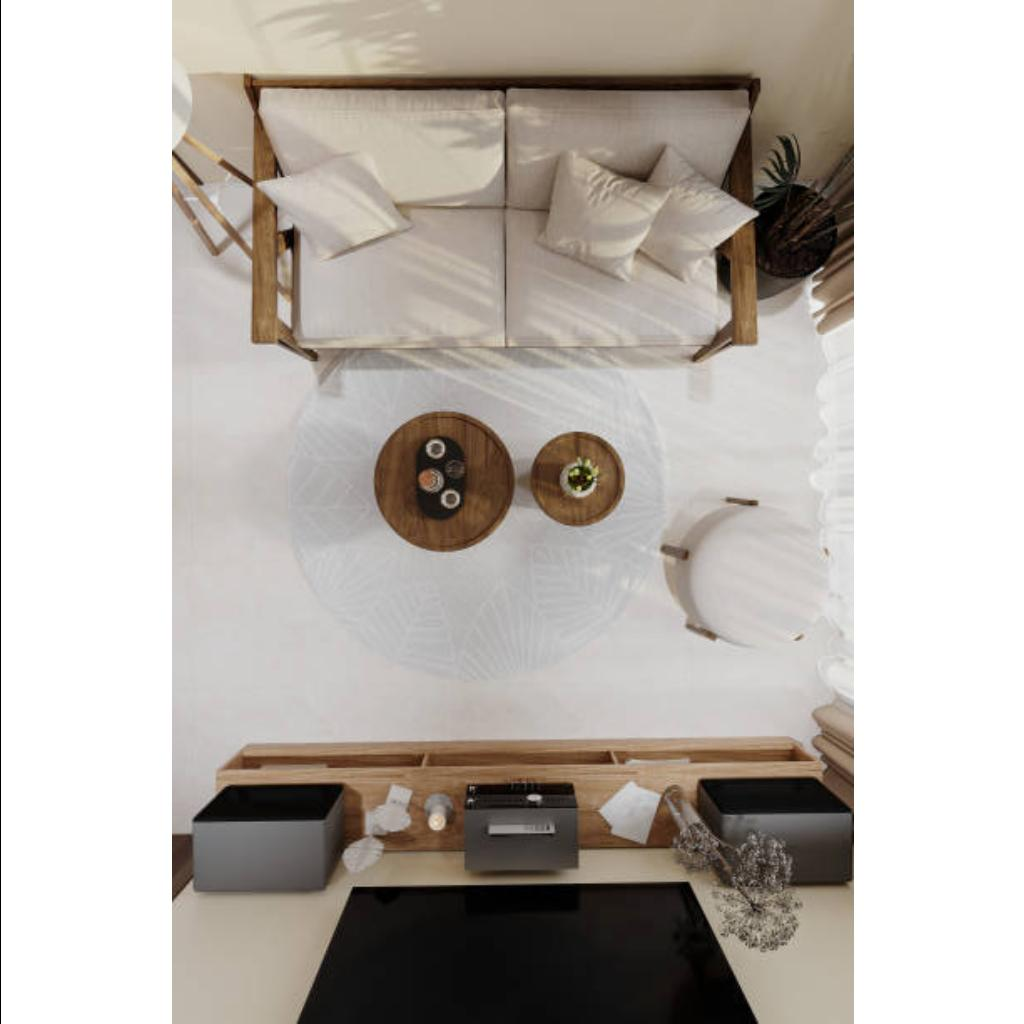TV stand: (179, 740, 847, 888)
coffee table: (372, 412, 510, 552)
floor lamp: (174, 169, 246, 253)
floor plant: (762, 186, 832, 280)
ottoman: (690, 511, 830, 649)
rug: (284, 308, 664, 684)
side table: (529, 432, 623, 526)
sofa: (248, 70, 758, 360)
window: (843, 142, 853, 734)
